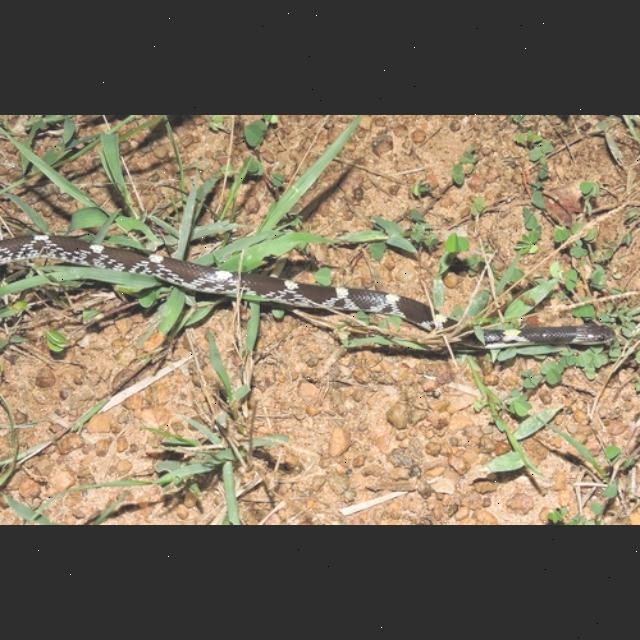snake: (0, 238, 626, 352)
